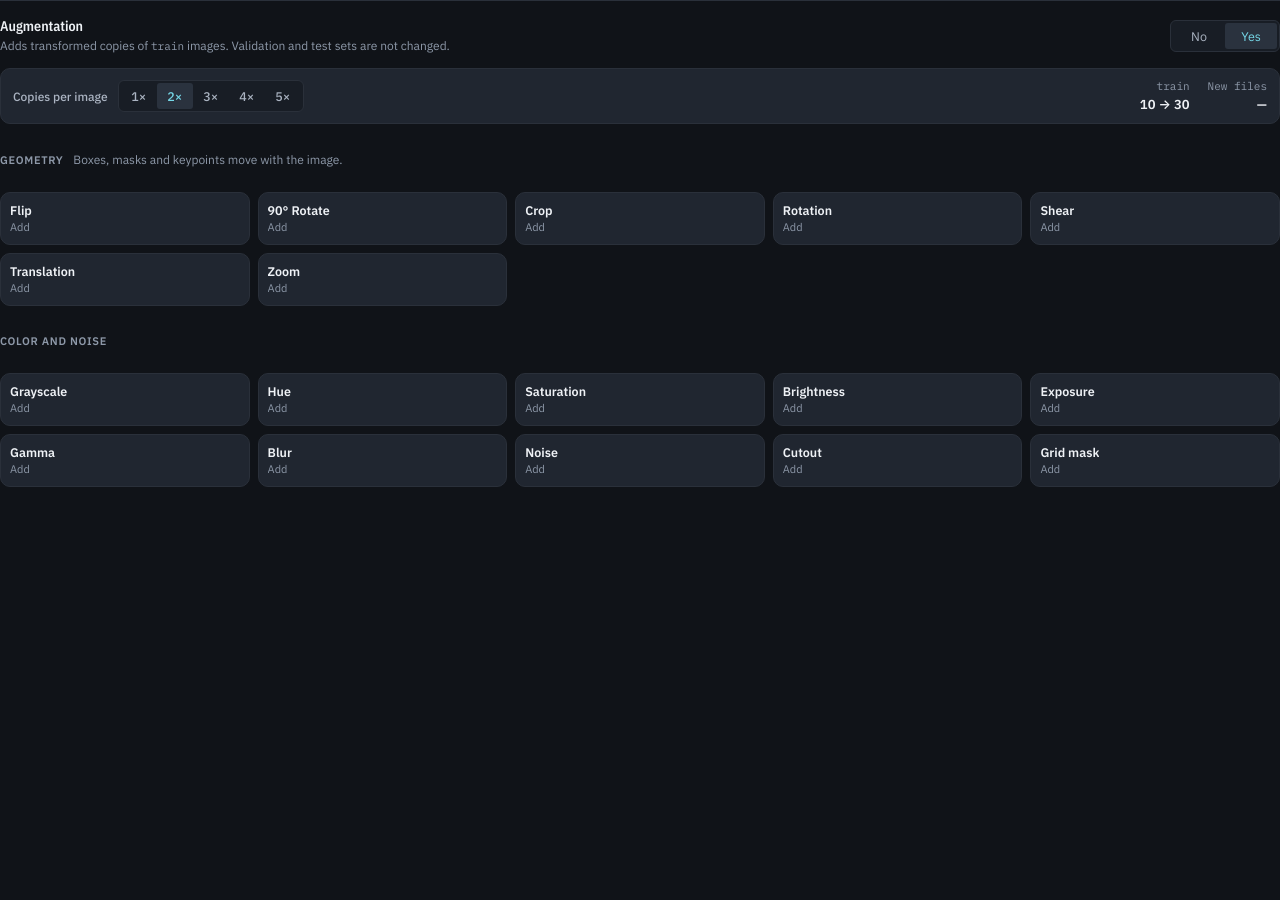
lets blur kinds be chosen, each previewed alone at the limit
Click the button "Blur Add" at x=382, y=460, box [258,434,507,487]
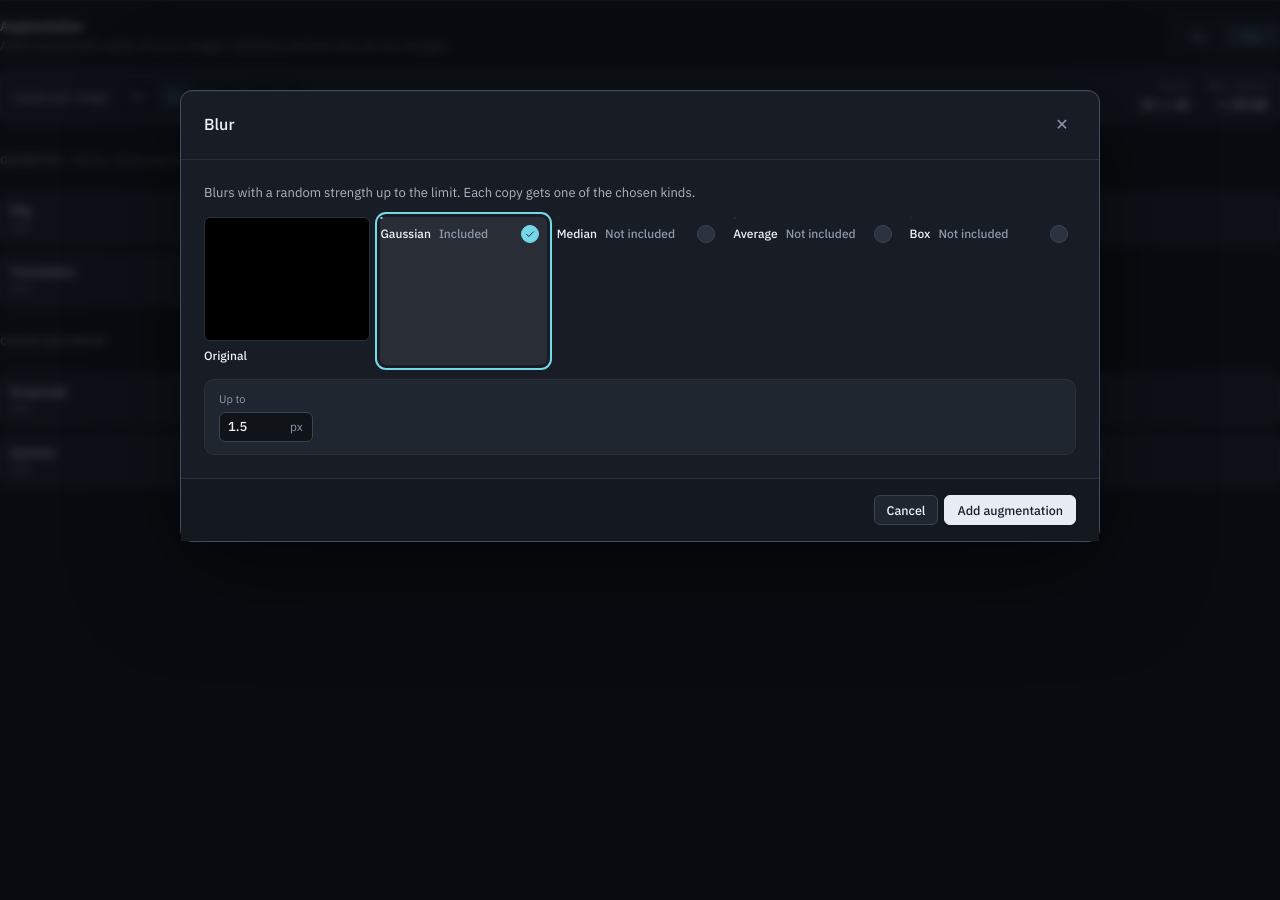
Click the button "Median Not included" at x=640, y=291, box [557,216,723,365]
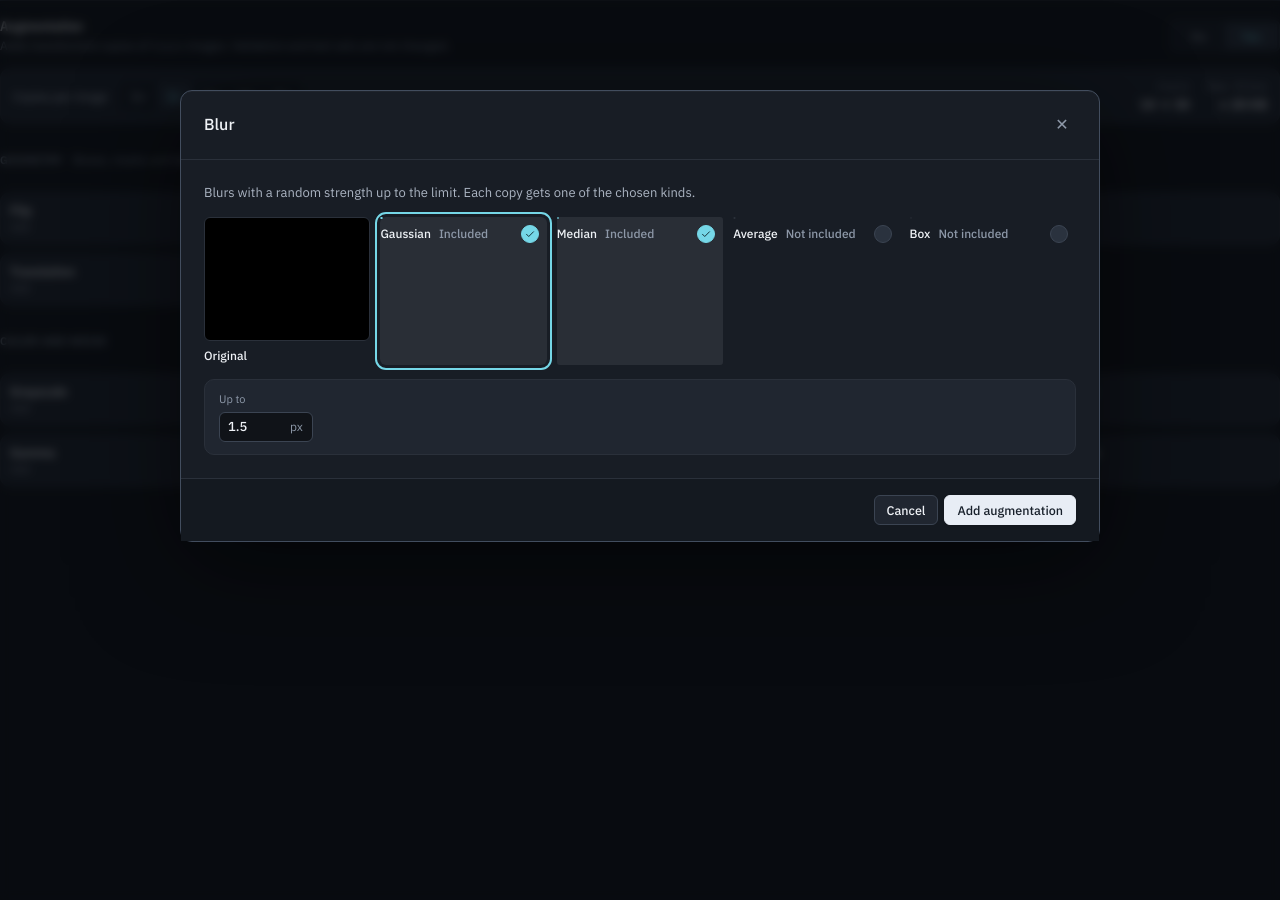
Click the button "Gaussian Included" at x=464, y=291, box [380,216,547,365]
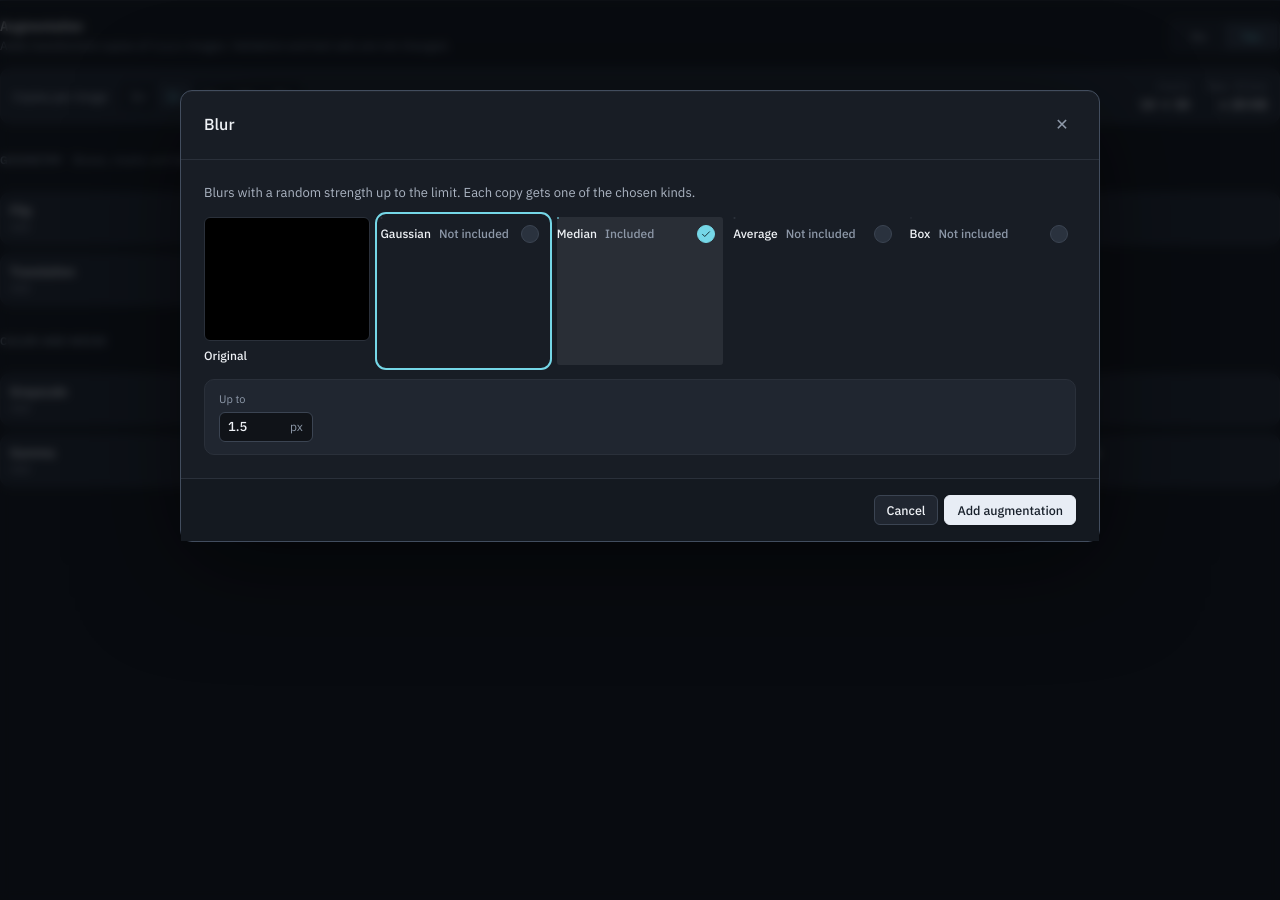
Replace the text in the number field labelled "Up to px" with "3" at x=255, y=427, box [220,413,290,441]
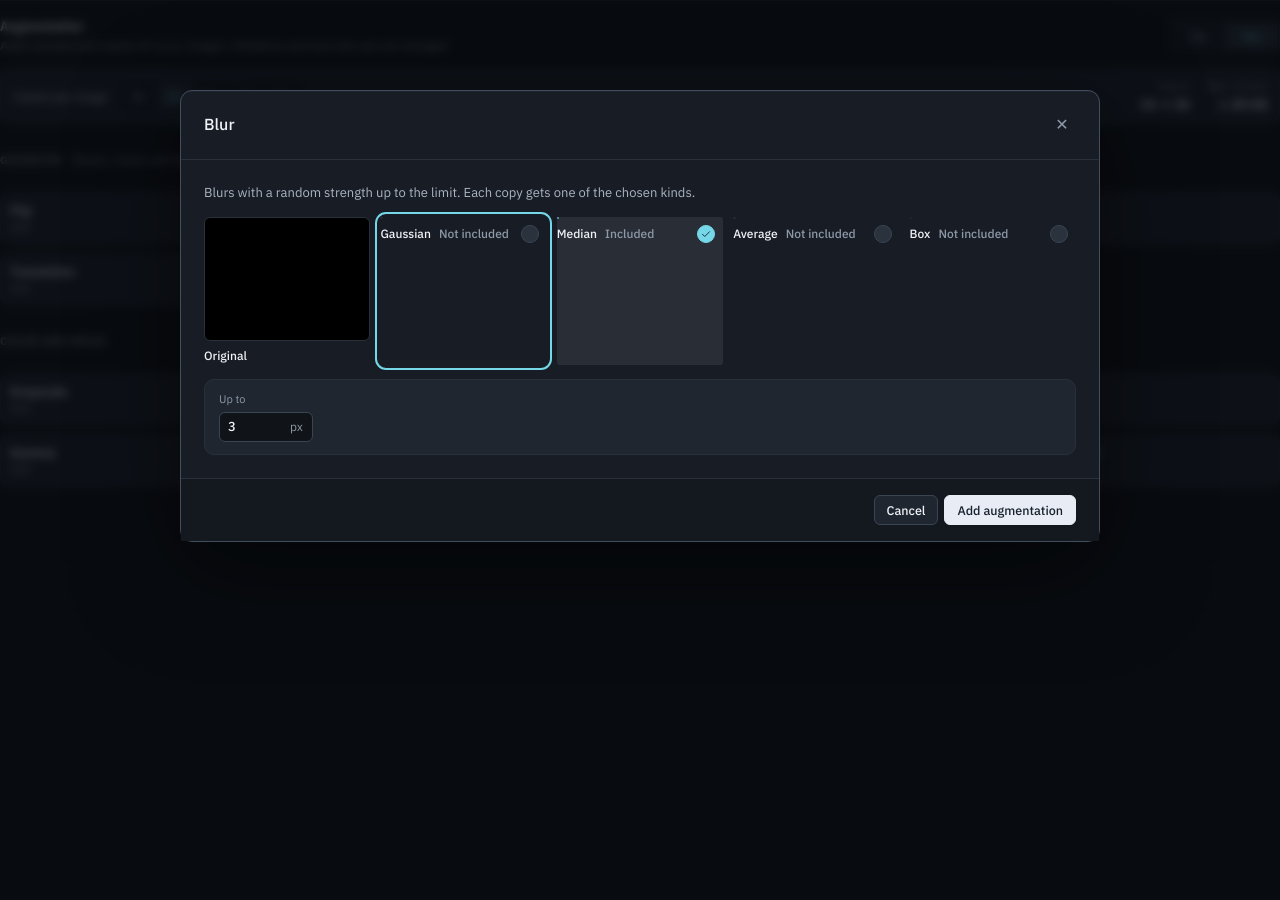
Click the button "Add augmentation" at x=1010, y=510, box [944,495,1076,525]
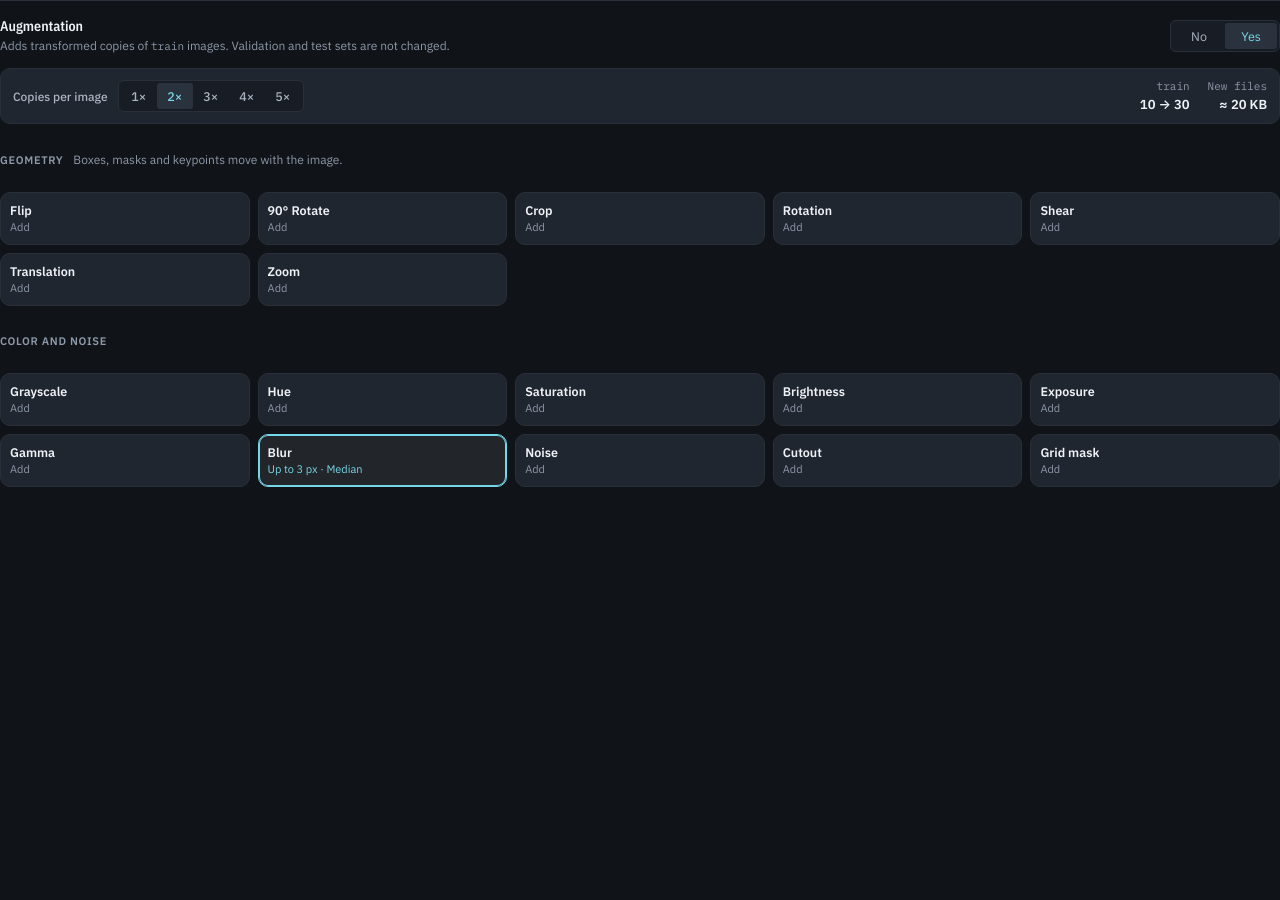
Check: the button "Blur Up to 3 px · Median" is shown, box [258,434,507,487]
